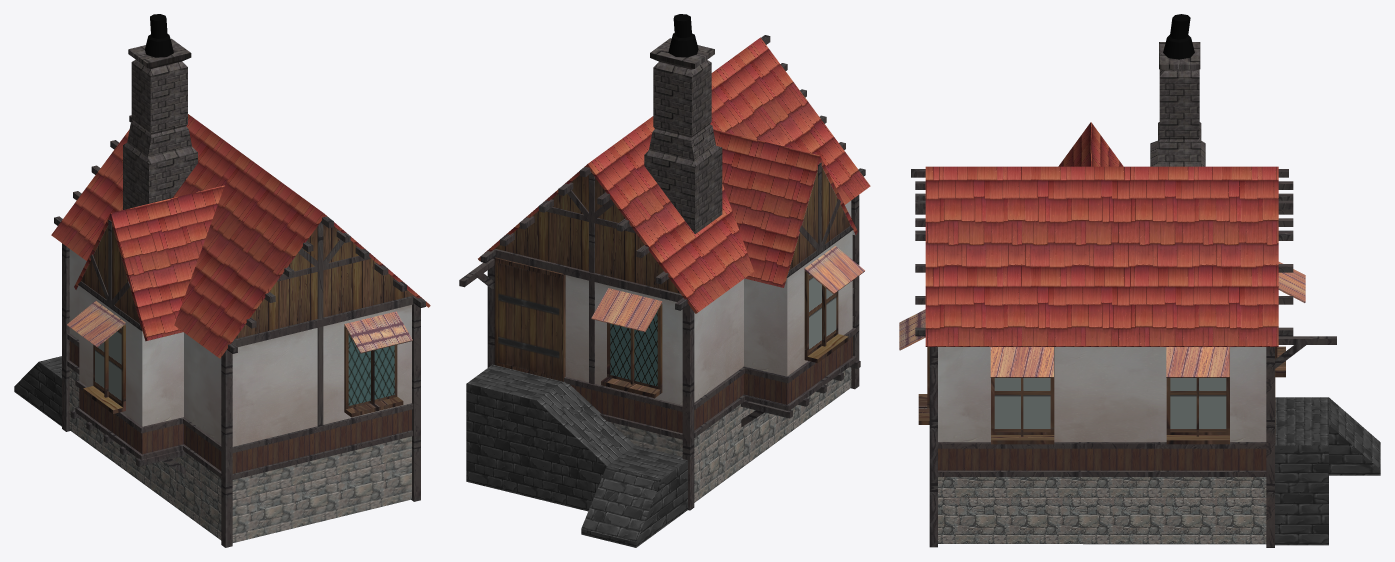
The model's file is house3.FBX.
3 renders of one model, left to right at view 1: azimuth 30°, elevation 25°; view 2: azimuth 150°, elevation 25°; view 3: azimuth 270°, elevation 25°, orthographic. The views are drawn at different scales.
Visible parts, largest first — view 1: Object005; view 2: Object005; view 3: Object005.
Part boxes in pixels (bbox=[...]): Object005: bbox=[14, 14, 430, 547]; Object005: bbox=[459, 14, 870, 547]; Object005: bbox=[899, 14, 1380, 547].
Size of the model in its own units: 112 by 161 by 154.
